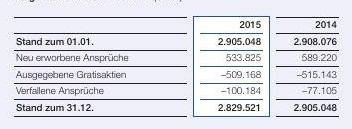table: (0, 0, 352, 129)
